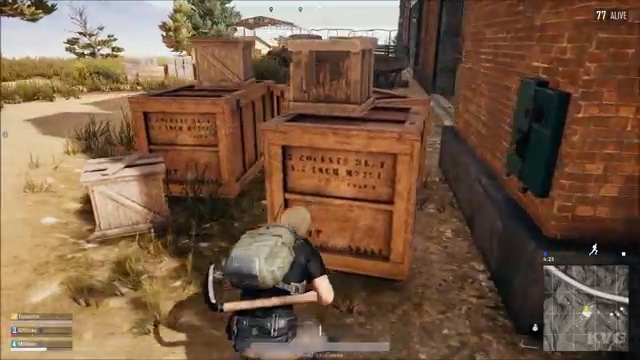Player: (191, 196, 372, 319)
